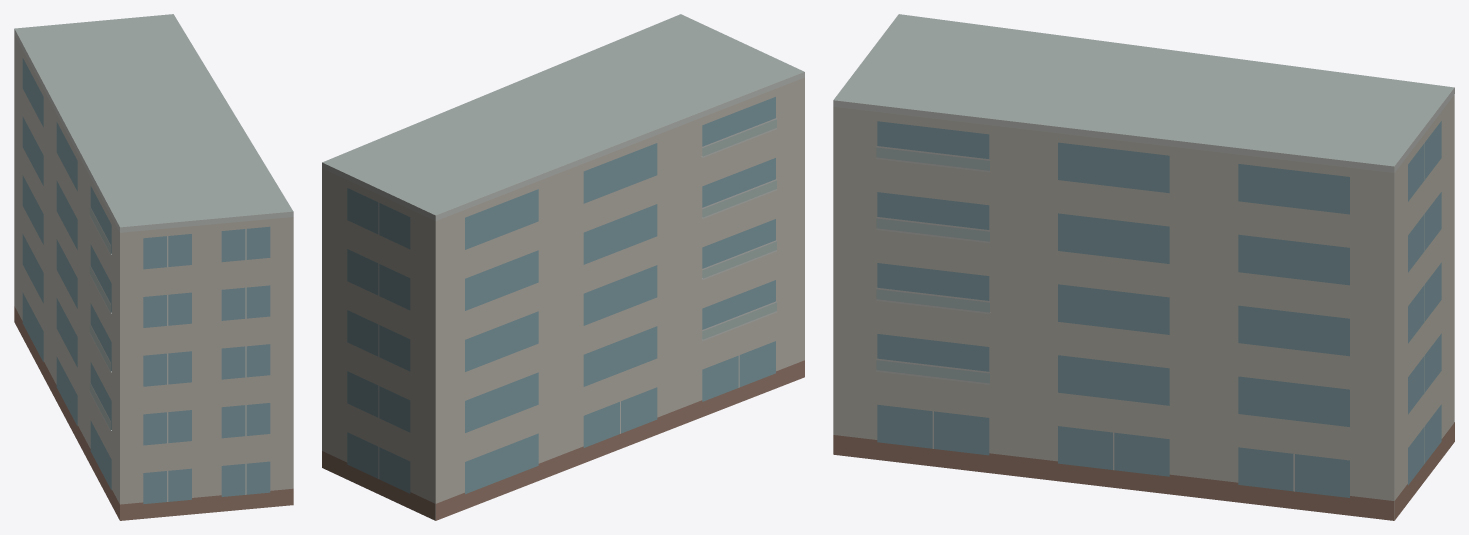
Rendered from survey-upis-32869844.glb.
3 renders of one model, left to right at view 1: azimuth 30°, elevation 25°; view 2: azimuth 150°, elevation 25°; view 3: azimuth 270°, elevation 25°, orthographic. The views are drawn at different scales.
Visible parts, largest first — view 1: survey-upis-32869844.tmp; view 2: survey-upis-32869844.tmp; view 3: survey-upis-32869844.tmp.
Boxes of the visible parts, x1=… form: survey-upis-32869844.tmp: x1=14, y1=14, x2=293, y2=520; survey-upis-32869844.tmp: x1=322, y1=14, x2=804, y2=520; survey-upis-32869844.tmp: x1=833, y1=14, x2=1454, y2=520.
Bounding box in the file's own units: 12.28 × 13.3 × 21.15.
